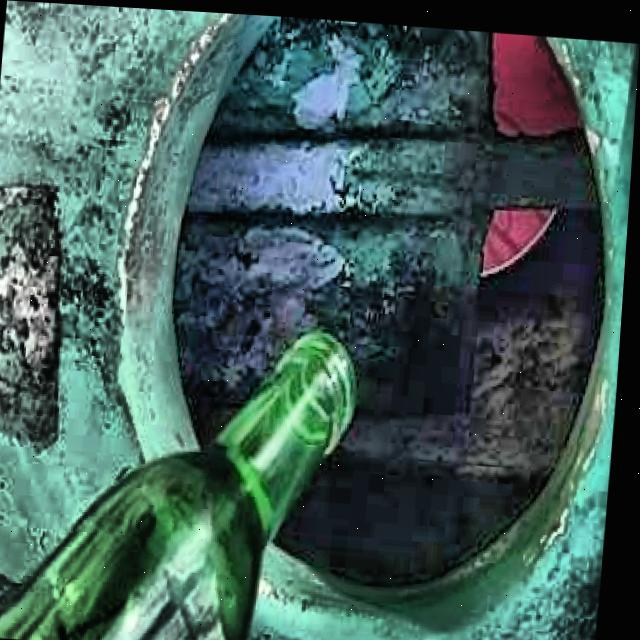glass: (0, 328, 359, 640)
